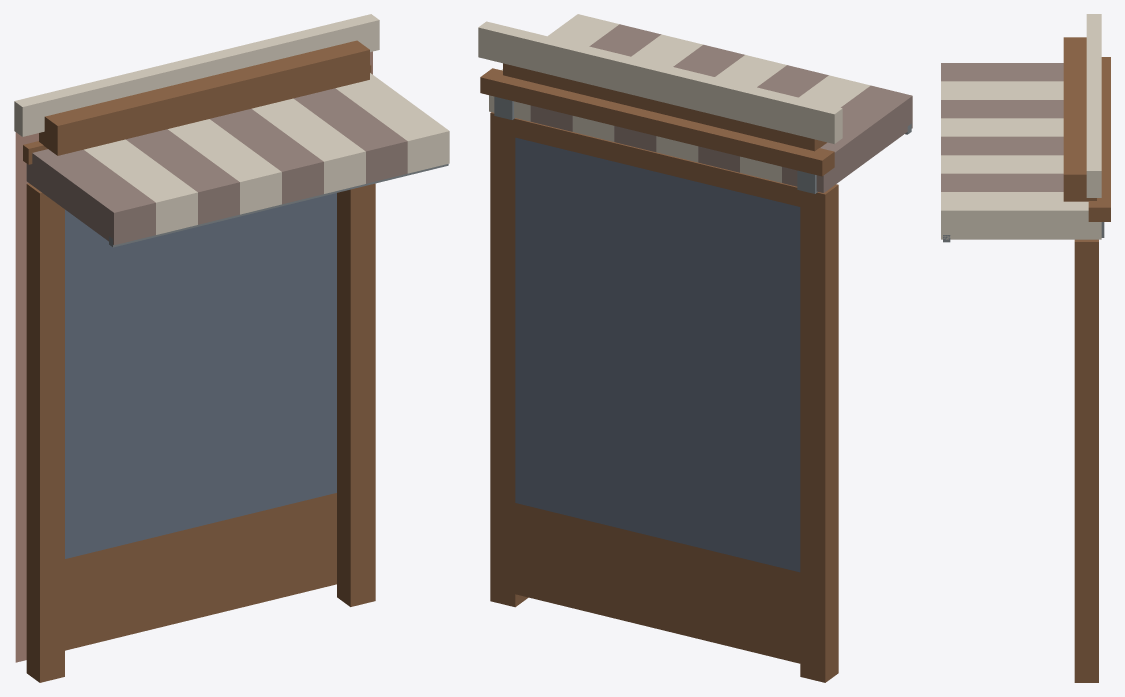
File: Shopfront.glb
3 renders of one model, left to right at view 1: azimuth 30°, elevation 25°; view 2: azimuth 150°, elevation 25°; view 3: azimuth 270°, elevation 25°, orthographic. The views are drawn at different scales.
Parts seen in each view (by area): view 1: PBK_glass.001, PBK_Continuous_Frame_Brick_Shopfront.003, PBK_glass.005_Frame_Base20.001, PBK_signboard.001, PBK_floor_band.048, PBK_awning_stripe.001, PBK_Brick_Shopfront_Exterior_Surface.001, PBK_awning_stripe.008, PBK_awning_stripe.005, PBK_awning_stripe.002, PBK_awning_stripe.004, PBK_awning_stripe.007 (+3 smaller); view 2: PBK_glass.001, PBK_Continuous_Frame_Brick_Shopfront.003, PBK_glass.005_Frame_Base20.001, PBK_floor_band.048, PBK_awning_wall_mount.003, PBK_awning_stripe.001, PBK_signboard.001, PBK_awning_stripe.004, PBK_awning_stripe.007, PBK_awning_stripe.005, PBK_awning_stripe.006, PBK_awning_stripe.002 (+2 smaller); view 3: PBK_Continuous_Frame_Brick_Shopfront.003, PBK_awning_stripe.008, PBK_signboard.001, PBK_floor_band.048, PBK_awning_stripe.005, PBK_awning_stripe.001, PBK_awning_stripe.002, PBK_awning_stripe.003, PBK_awning_stripe.004, PBK_awning_stripe.006, PBK_awning_stripe.007, PBK_awning_wall_mount.003.
Part boxes in pixels (x1,y1,x2,y2): PBK_glass.001: (65,193,336,558); PBK_Continuous_Frame_Brick_Shopfront.003: (26,183,375,682); PBK_glass.005_Frame_Base20.001: (65,493,336,650); PBK_signboard.001: (39,40,369,155); PBK_floor_band.048: (14,14,379,136); PBK_awning_stripe.001: (26,149,155,245); PBK_Brick_Shopfront_Exterior_Surface.001: (15,51,372,662); PBK_awning_stripe.008: (335,73,449,173); PBK_awning_stripe.005: (210,108,323,204); PBK_awning_stripe.002: (84,139,197,234); PBK_awning_stripe.004: (168,119,281,214); PBK_awning_stripe.007: (293,88,407,183); PBK_glass.001: (515,137,800,572); PBK_Continuous_Frame_Brick_Shopfront.003: (490,112,838,682); PBK_glass.005_Frame_Base20.001: (515,503,800,663); PBK_floor_band.048: (478,21,842,143); PBK_awning_wall_mount.003: (480,68,834,176); PBK_awning_stripe.001: (782,85,912,192); PBK_signboard.001: (503,63,826,151); PBK_awning_stripe.004: (656,55,786,162); PBK_awning_stripe.007: (530,24,661,131); PBK_awning_stripe.005: (614,44,744,151); PBK_awning_stripe.006: (572,34,702,141); PBK_awning_stripe.002: (740,75,870,182); PBK_Continuous_Frame_Brick_Shopfront.003: (1074,239,1098,682); PBK_awning_stripe.008: (941,192,1101,239); PBK_signboard.001: (1063,37,1096,201); PBK_floor_band.048: (1086,14,1101,197); PBK_awning_stripe.005: (941,136,1063,155); PBK_awning_stripe.001: (941,63,1063,81); PBK_awning_stripe.002: (941,81,1063,99); PBK_awning_stripe.003: (941,100,1063,118); PBK_awning_stripe.004: (941,118,1063,136); PBK_awning_stripe.006: (941,155,1063,173); PBK_awning_stripe.007: (941,173,1063,191); PBK_awning_wall_mount.003: (1088,57,1110,221).
Bounding box in the file's own units: 2 × 3.07 × 0.915.
